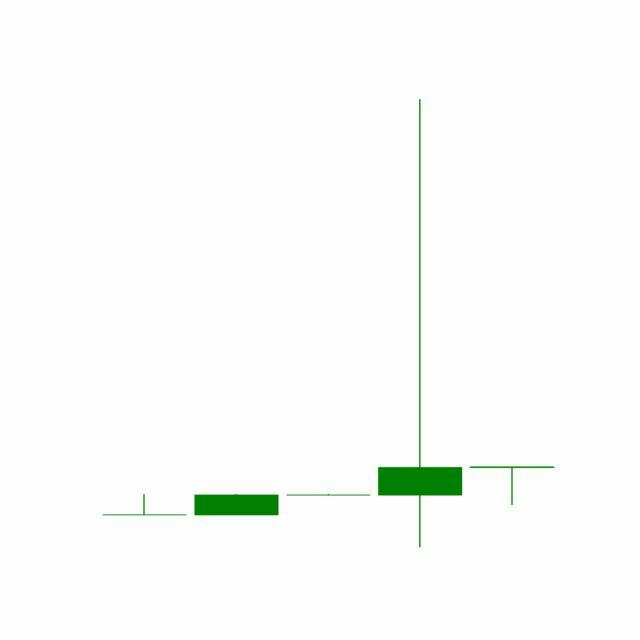Dragonfly Doji: (466, 467, 559, 507)
